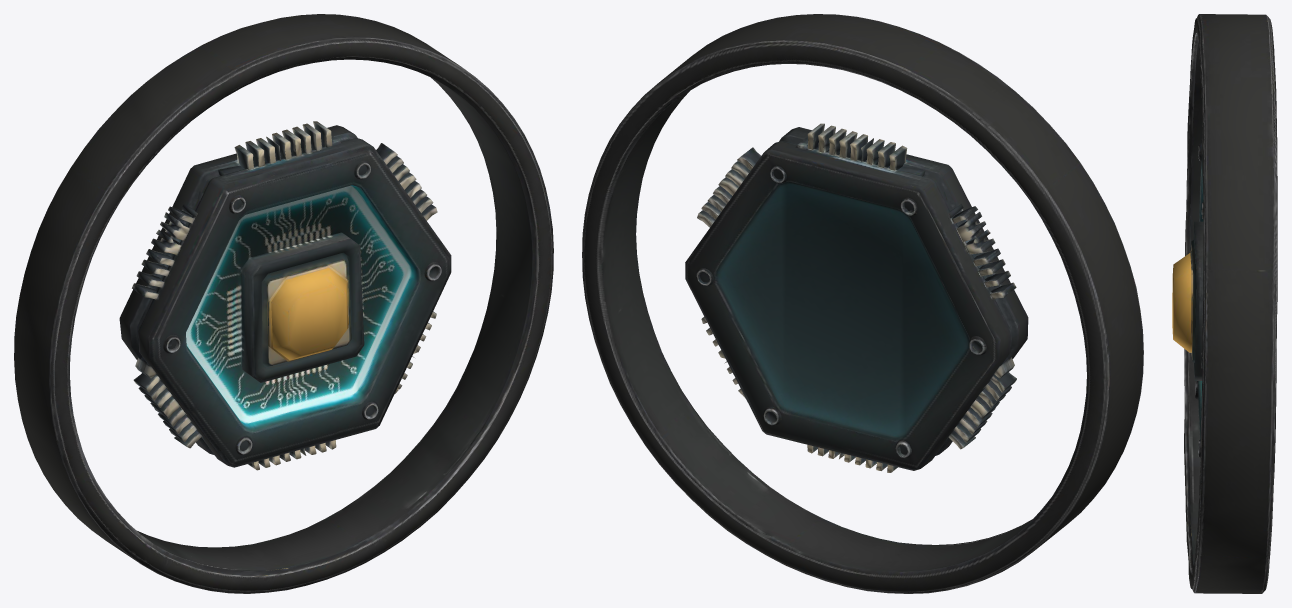
File: selected.fbx
3 renders of one model, left to right at view 1: azimuth 30°, elevation 25°; view 2: azimuth 150°, elevation 25°; view 3: azimuth 270°, elevation 25°, orthographic. The views are drawn at different scales.
Visible parts, largest first — view 1: tripo_node_5f634673-032a-4013-8220-4d4e705e953c; view 2: tripo_node_5f634673-032a-4013-8220-4d4e705e953c; view 3: tripo_node_5f634673-032a-4013-8220-4d4e705e953c.
Boxes of the visible parts, x1,y1,x2,y2 form: tripo_node_5f634673-032a-4013-8220-4d4e705e953c: (14,14,553,593); tripo_node_5f634673-032a-4013-8220-4d4e705e953c: (582,14,1143,593); tripo_node_5f634673-032a-4013-8220-4d4e705e953c: (1172,14,1277,593).
Size of the model in its own units: 0.9995 by 0.9995 by 0.1821.
Materials: 1 (1 with a texture image).
